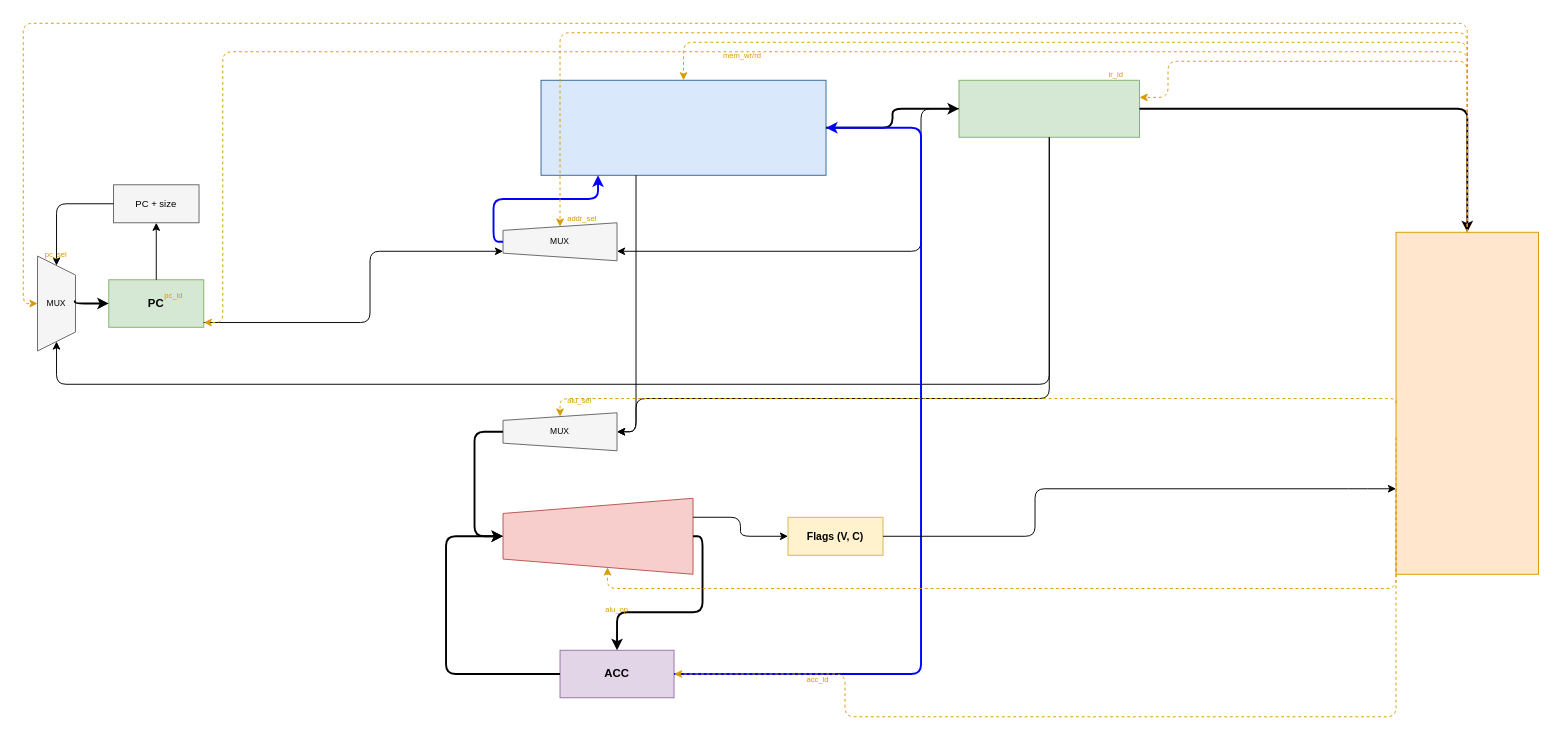
Some shapes in this 1555 by 741 pixel diagram are drawn without their labels. Each missing label, with the box of its shape:
ALU: (502, 497, 693, 574)
Control Unit: (1395, 231, 1539, 574)
IR [opcode | operand]: (958, 79, 1140, 137)
MEMORY Instructions + Data: (540, 79, 826, 175)
